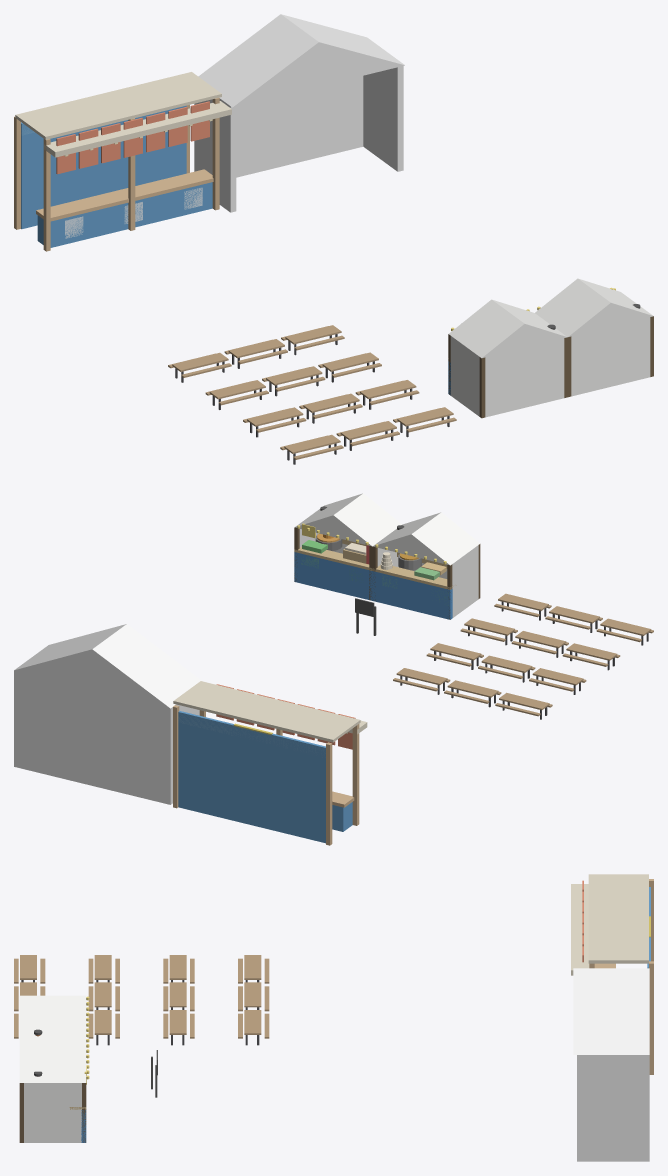
The model's file is F8_gome.glb.
3 views of the same model, one above another, from view 1: azimuth 30°, elevation 25°; view 2: azimuth 150°, elevation 25°; view 3: azimuth 270°, elevation 25° (orthographic). The views are drawn at different scales.
Parts seen in each view (by area): view 1: Geom3D (×21); view 2: Geom3D (×20); view 3: Geom3D (×19).
Boxes of the visible parts, <box> form: Geom3D (×21): <box>14,14,653,417</box>; Geom3D (×20): <box>14,493,479,845</box>; Geom3D (×19): <box>19,874,653,1161</box>.
Size of the model in its own units: 20.28 by 7.54 by 28.87.
